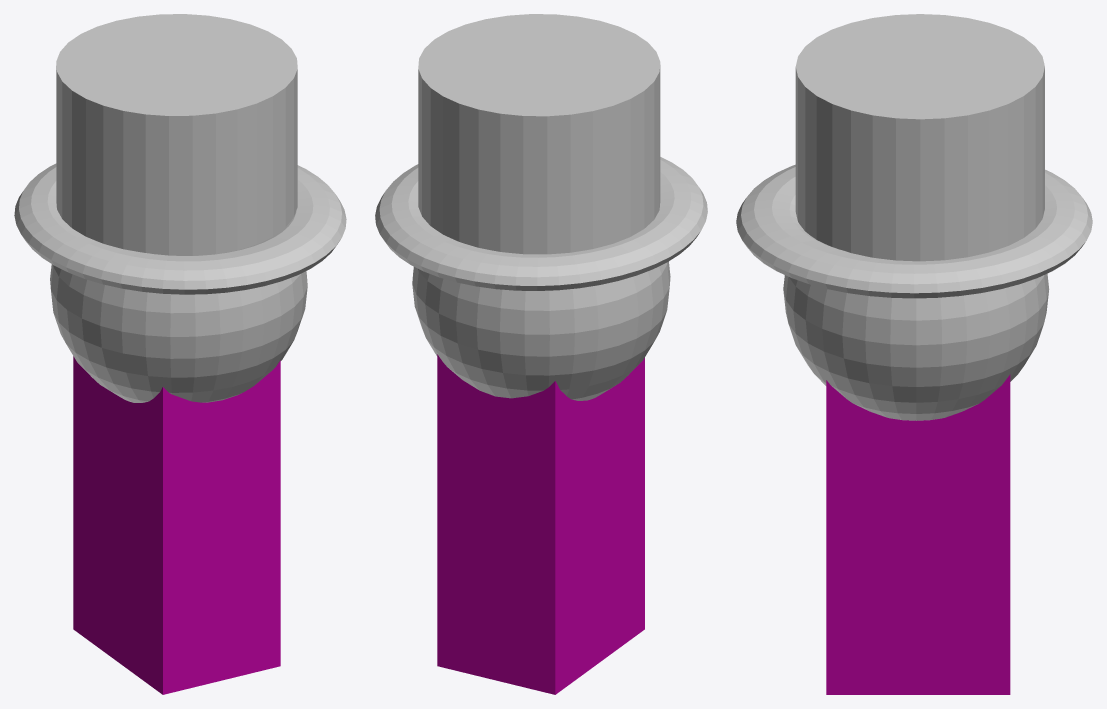
Rendered from Platform_Character2.obj.
The picture shows the model from 3 angles, left to right: view 1: azimuth 30°, elevation 25°; view 2: azimuth 150°, elevation 25°; view 3: azimuth 270°, elevation 25°; orthographic projection. The views are drawn at different scales.
Visible parts, largest first — view 1: Cube_Cube, Cylinder_Cylinder, Sphere_Sphere, Torus_Torus; view 2: Cube_Cube, Cylinder_Cylinder, Sphere_Sphere, Torus_Torus; view 3: Cylinder_Cylinder, Cube_Cube, Sphere_Sphere, Torus_Torus.
Boxes of the visible parts, bbox=[...] form: Cube_Cube: bbox=[73, 356, 280, 694]; Cylinder_Cylinder: bbox=[56, 14, 297, 255]; Sphere_Sphere: bbox=[50, 264, 307, 402]; Torus_Torus: bbox=[14, 163, 346, 294]; Cube_Cube: bbox=[437, 354, 644, 694]; Cylinder_Cylinder: bbox=[418, 14, 660, 254]; Sphere_Sphere: bbox=[412, 261, 670, 400]; Torus_Torus: bbox=[375, 157, 707, 290]; Cylinder_Cylinder: bbox=[795, 14, 1044, 261]; Cube_Cube: bbox=[826, 374, 1010, 694]; Sphere_Sphere: bbox=[783, 273, 1049, 420]; Torus_Torus: bbox=[736, 164, 1092, 298].
Size of the model in its own units: 45.4 by 89.04 by 48.03.
